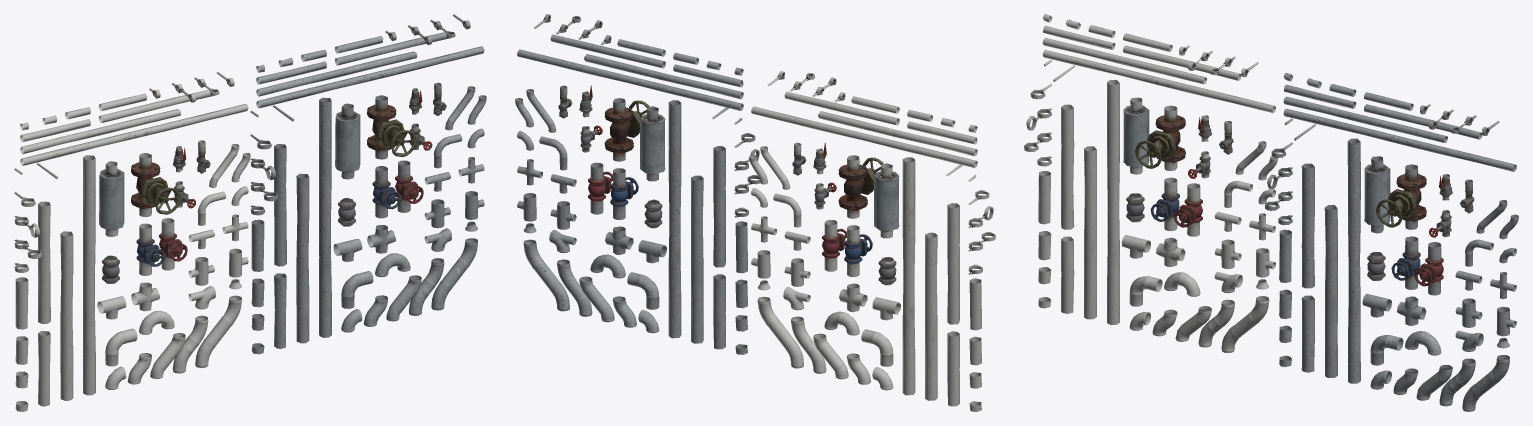
The model's file is modular_pipes.gltf.
3 views of the same model, side by side, from view 1: azimuth 30°, elevation 25°; view 2: azimuth 150°, elevation 25°; view 3: azimuth 330°, elevation 25° (orthographic). The views are drawn at different scales.
Visible parts, largest first — view 1: pipe_200cm_metal, pipe_200cm_pvc, pipe_140cm_metal, pipe_140cm_pvc, pipe_thin_200cm_pvc, pipe_thin_200cm_metal, pipe_valve_large_metal, pipe_valve_large_pvc, pipe_chamber_large_metal, pipe_chamber_large_pvc, pipe_100cm_metal, pipe_100cm_pvc (+34 smaller); view 2: pipe_200cm_pvc, pipe_200cm_metal, pipe_140cm_metal, pipe_140cm_pvc, pipe_thin_200cm_metal, pipe_thin_200cm_pvc, pipe_valve_large_pvc, pipe_valve_large_metal, pipe_chamber_large_metal, pipe_chamber_large_pvc, pipe_100cm_metal, pipe_100cm_pvc (+34 smaller); view 3: pipe_200cm_metal, pipe_200cm_pvc, pipe_140cm_pvc, pipe_140cm_metal, pipe_thin_200cm_pvc, pipe_thin_200cm_metal, pipe_valve_large_pvc, pipe_valve_large_metal, pipe_chamber_large_pvc, pipe_100cm_pvc, pipe_100cm_metal, pipe_chamber_large_metal (+33 smaller).
Boxes of the visible parts, left/top/right/bottom form: pipe_200cm_metal: left=319, top=97, right=331, bottom=337; pipe_200cm_pvc: left=83, top=155, right=95, bottom=395; pipe_140cm_metal: left=296, top=173, right=309, bottom=343; pipe_140cm_pvc: left=60, top=231, right=73, bottom=400; pipe_thin_200cm_pvc: left=20, top=104, right=248, bottom=165; pipe_thin_200cm_metal: left=256, top=46, right=484, bottom=108; pipe_valve_large_metal: left=367, top=95, right=416, bottom=159; pipe_valve_large_pvc: left=131, top=153, right=180, bottom=217; pipe_chamber_large_metal: left=335, top=103, right=360, bottom=179; pipe_chamber_large_pvc: left=99, top=161, right=124, bottom=236; pipe_100cm_metal: left=274, top=144, right=286, bottom=266; pipe_100cm_pvc: left=38, top=201, right=50, bottom=323; pipe_200cm_pvc: left=902, top=157, right=915, bottom=395; pipe_200cm_metal: left=668, top=100, right=681, bottom=338; pipe_140cm_metal: left=691, top=175, right=703, bottom=343; pipe_140cm_pvc: left=925, top=232, right=937, bottom=400; pipe_thin_200cm_metal: left=517, top=49, right=743, bottom=110; pipe_thin_200cm_pvc: left=751, top=106, right=977, bottom=167; pipe_valve_large_pvc: left=838, top=155, right=883, bottom=218; pipe_valve_large_metal: left=604, top=98, right=649, bottom=161; pipe_chamber_large_metal: left=640, top=106, right=665, bottom=181; pipe_chamber_large_pvc: left=874, top=163, right=899, bottom=238; pipe_100cm_metal: left=713, top=146, right=725, bottom=267; pipe_100cm_pvc: left=947, top=203, right=959, bottom=324; pipe_200cm_metal: left=1347, top=138, right=1360, bottom=383; pipe_200cm_pvc: left=1107, top=80, right=1119, bottom=324; pipe_140cm_pvc: left=1084, top=146, right=1096, bottom=319; pipe_140cm_metal: left=1324, top=205, right=1337, bottom=377; pipe_thin_200cm_pvc: left=1042, top=49, right=1275, bottom=113; pipe_thin_200cm_metal: left=1283, top=108, right=1516, bottom=171; pipe_valve_large_pvc: left=1135, top=105, right=1185, bottom=170; pipe_valve_large_metal: left=1376, top=164, right=1426, bottom=229; pipe_chamber_large_pvc: left=1123, top=97, right=1149, bottom=174; pipe_100cm_pvc: left=1061, top=104, right=1074, bottom=229; pipe_100cm_metal: left=1301, top=163, right=1314, bottom=288; pipe_chamber_large_metal: left=1364, top=156, right=1390, bottom=233.
Bounding box in the file's own units: 4.19 × 2.43 × 0.4578.
2 materials, 2 textured.
